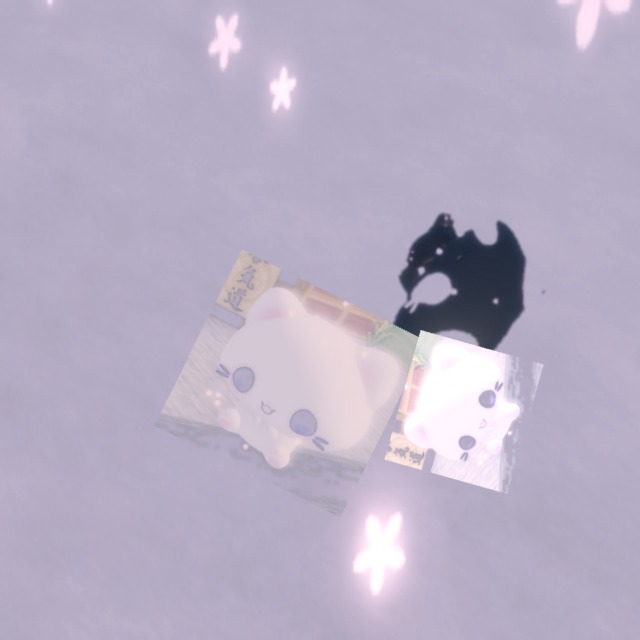urso_branco: (154, 249, 428, 518), (384, 330, 544, 494)
urso_preto: (324, 155, 591, 451)
